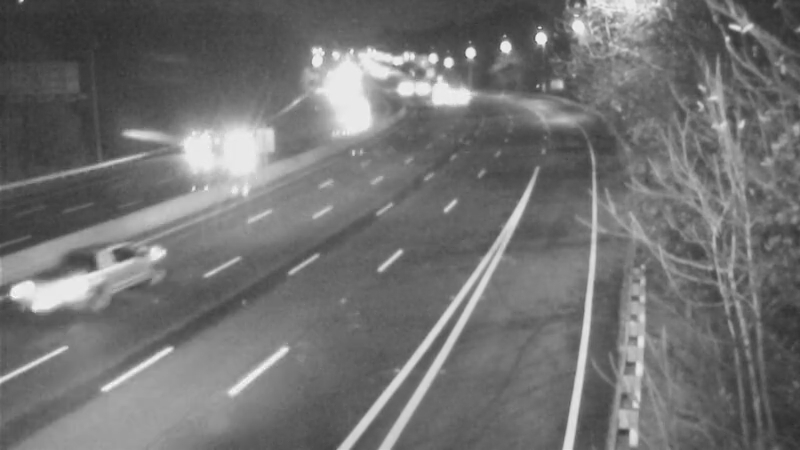vehicle: (15, 248, 95, 328), (149, 113, 229, 193), (192, 122, 272, 202), (404, 72, 454, 122), (325, 87, 375, 137)
